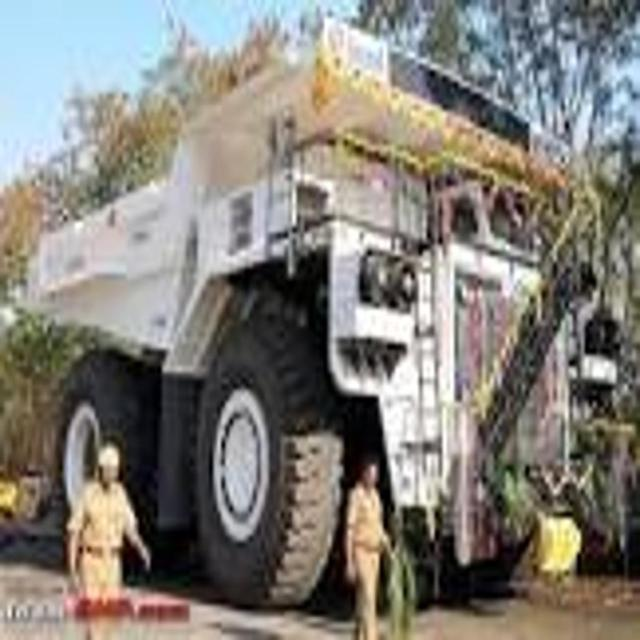dump_truck: (34, 18, 585, 634)
